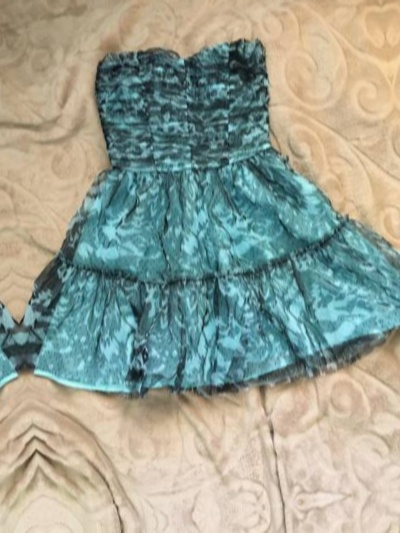Dress: (0, 8, 400, 417), (0, 62, 27, 471), (383, 0, 400, 363)
